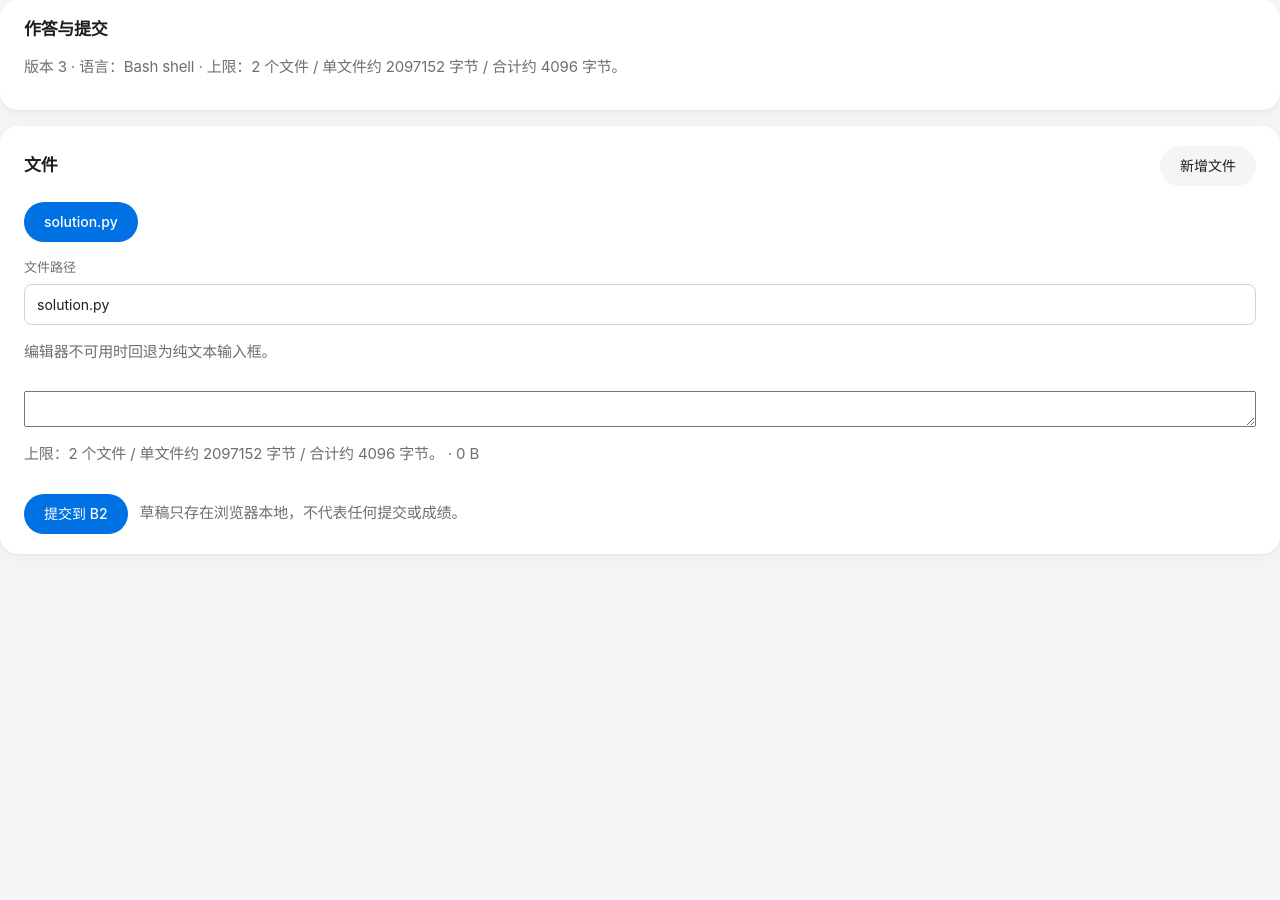
Test case: 作答与提交（RQ-B-1-50） › 提交成功：信封含摘要与幂等键，随后按 SSE 展示终态，并清除本地草稿
Expected: the field with test id "active-file-path" holds "solution.py", 24,284 -> 1256,324
Type "print(1)" into the text box with test id "code-editor-fallback". click: (640, 409)
box: 24,391 -> 1256,427
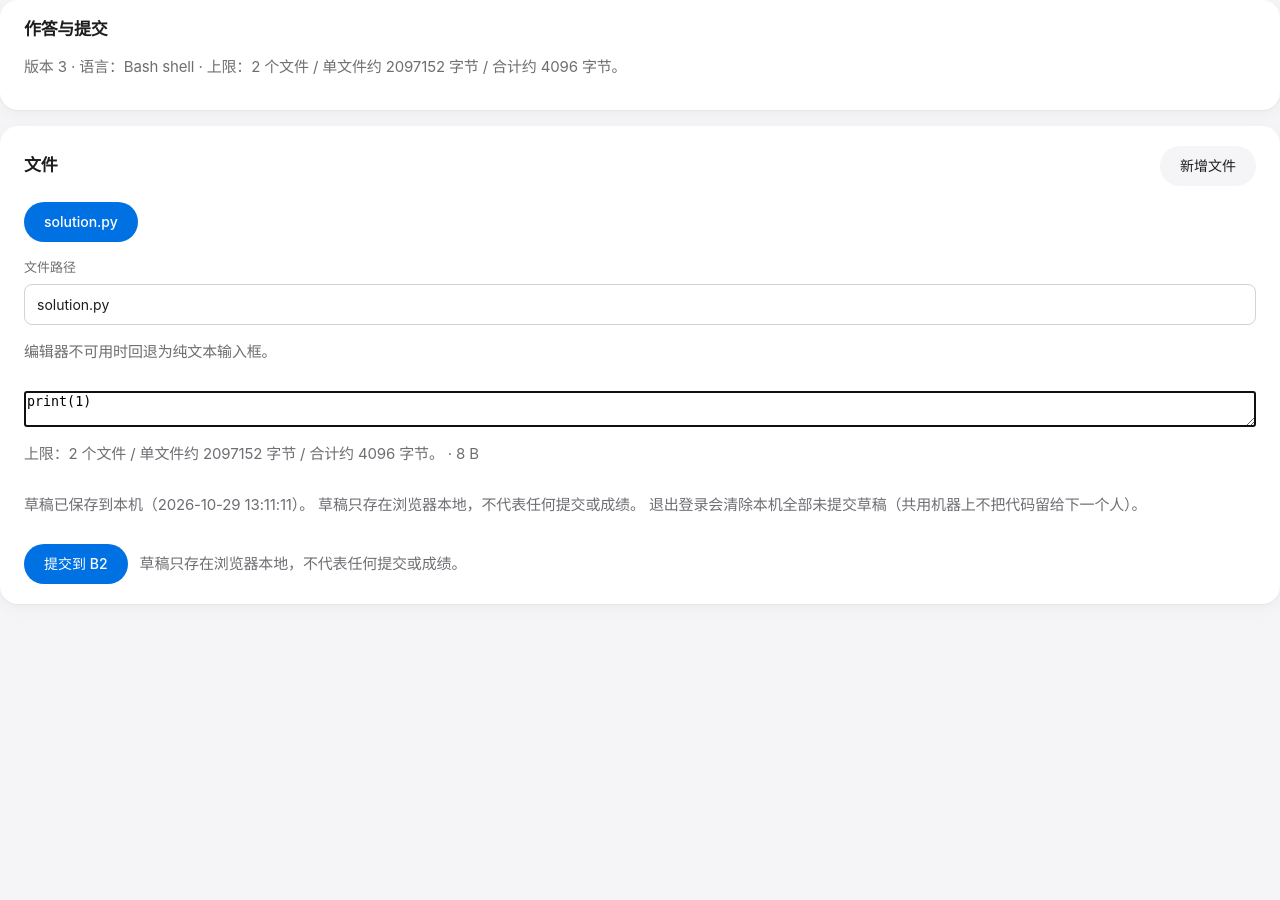
Click the button with test id "submit-answer". click: (76, 564)
box: 24,544 -> 128,584
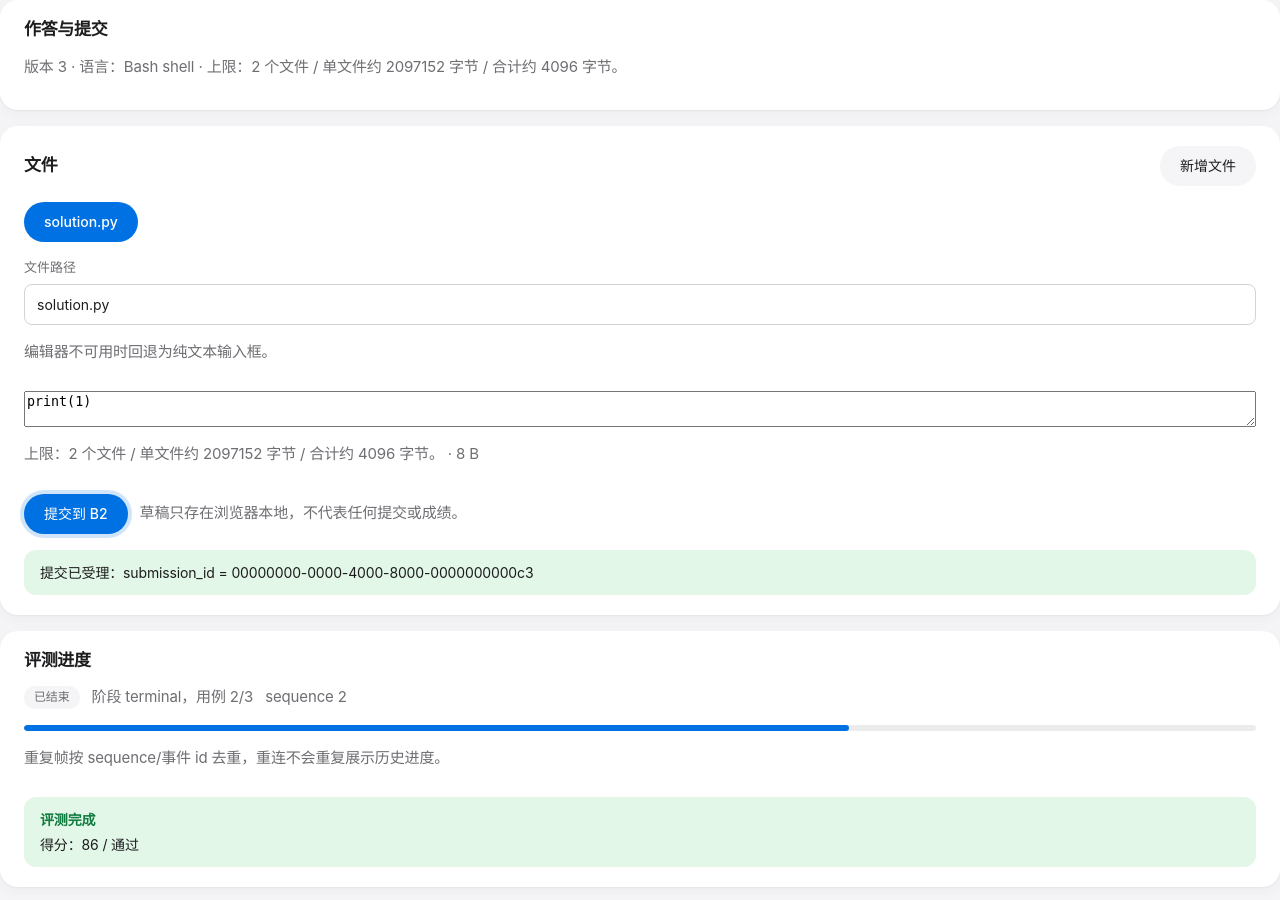
Now the text "提交已受理：submission_id = 00000000-0000-4000-8000-0000000000c3" is shown, box 24,550 -> 1256,594
Now the element with test id "terminal-completed" is shown, box 24,797 -> 1256,867
Now the element with test id "terminal-completed" shows "86", box 82,836 -> 99,853
